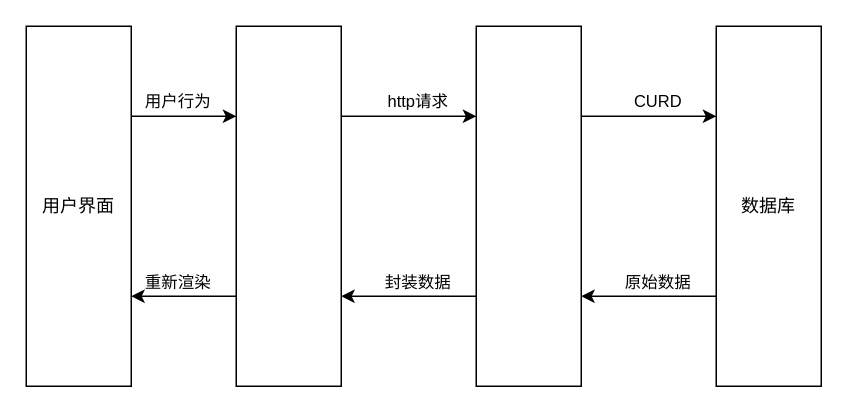
This 848x413 diagram has some shape labels left out. The centre of each missing label's shape, as x and y in pixels:
前端逻辑: point (288, 205)
后端: point (528, 205)
